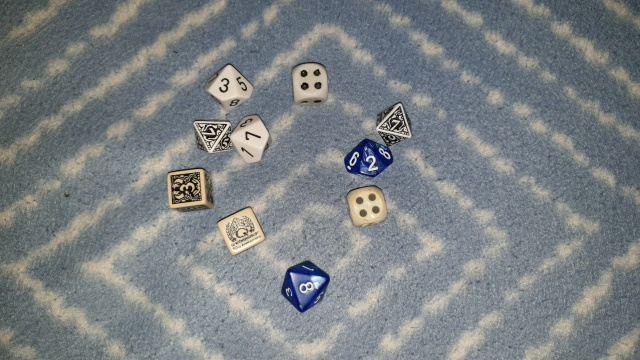d10-2: (341, 136, 397, 179)
d10-3: (201, 61, 257, 112)
d10-7: (229, 111, 281, 168)
d10-8: (276, 255, 336, 316)
d6-4: (343, 182, 394, 229), (288, 59, 333, 109)
d6p-3: (161, 166, 219, 213)
d6p-6: (214, 204, 272, 261)
d8p-7: (372, 99, 416, 149), (192, 115, 236, 158)
